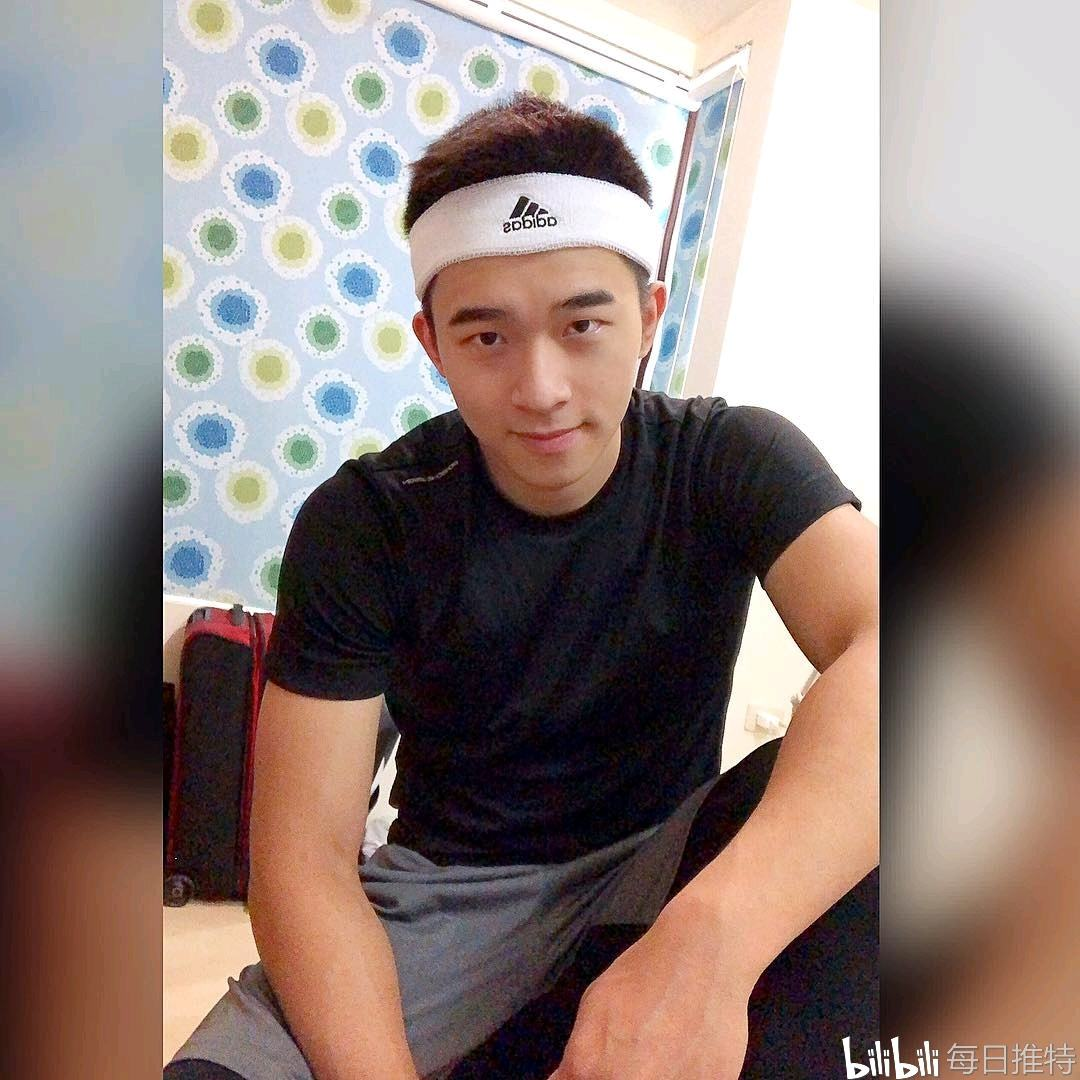person: (379, 92, 870, 1016)
